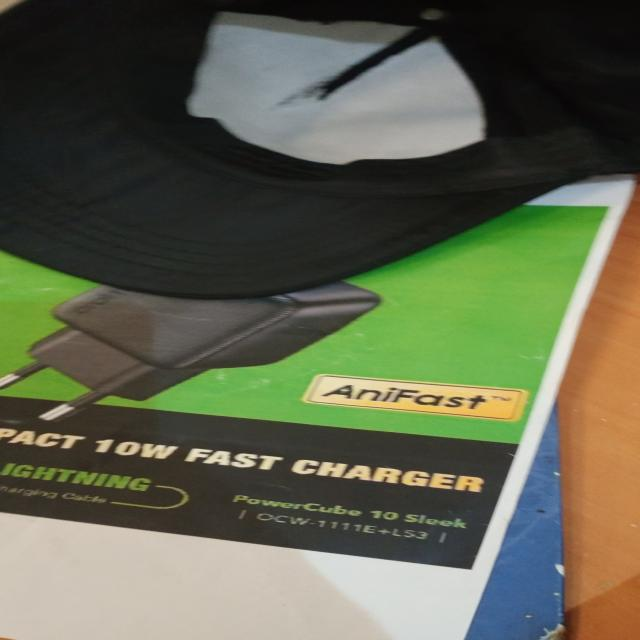PowerCube 10 Sleek OCW-1111ExL53: (220, 484, 488, 547)
